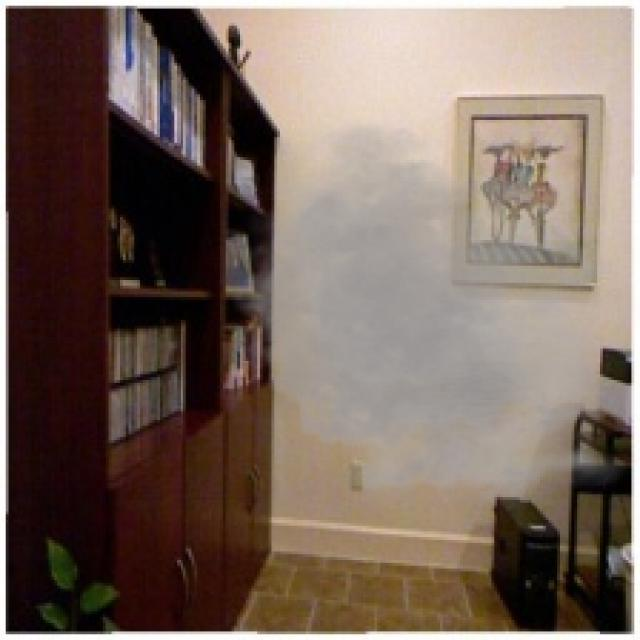smoke: (220, 108, 637, 523)
